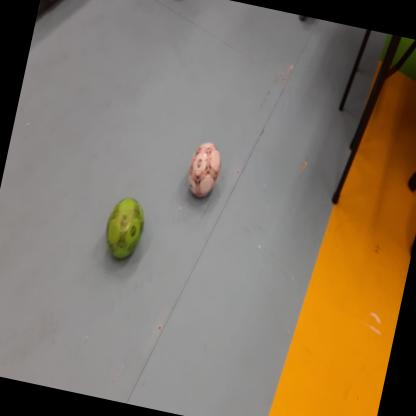ball: (101, 194, 149, 263), (184, 139, 224, 203)
